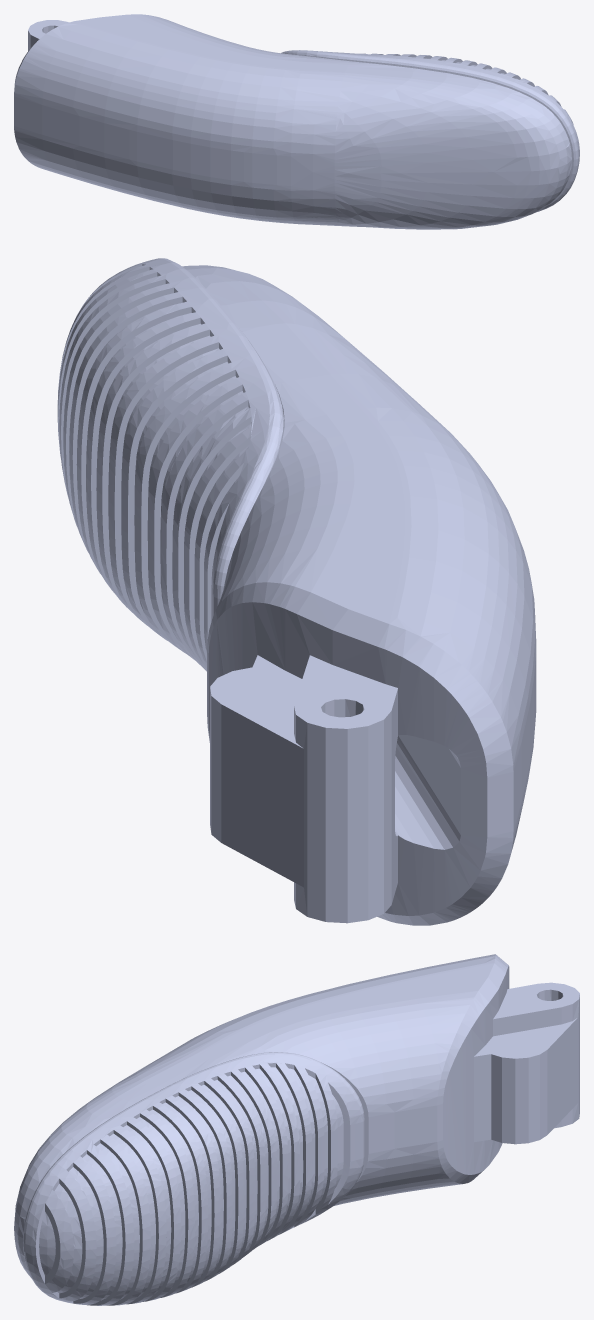
The model's file is lh_index_distal_vis.obj.
The picture shows the model from 3 angles, top to bottom: view 1: azimuth 30°, elevation 25°; view 2: azimuth 150°, elevation 25°; view 3: azimuth 270°, elevation 25°; orthographic projection. The views are drawn at different scales.
Visible parts, largest first — view 1: lh_index_distal; view 2: lh_index_distal; view 3: lh_index_distal.
Part boxes in pixels (x1,y1,x2,y2): lh_index_distal: (14, 14, 579, 229); lh_index_distal: (57, 258, 536, 925); lh_index_distal: (14, 954, 579, 1305).
Size of the model in its own units: 0.0408 by 0.0159 by 0.042.
1 material, 1 textured.
